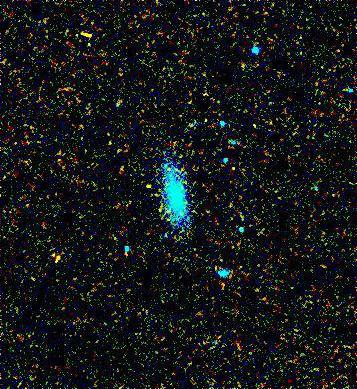star: (133, 171, 163, 201)
